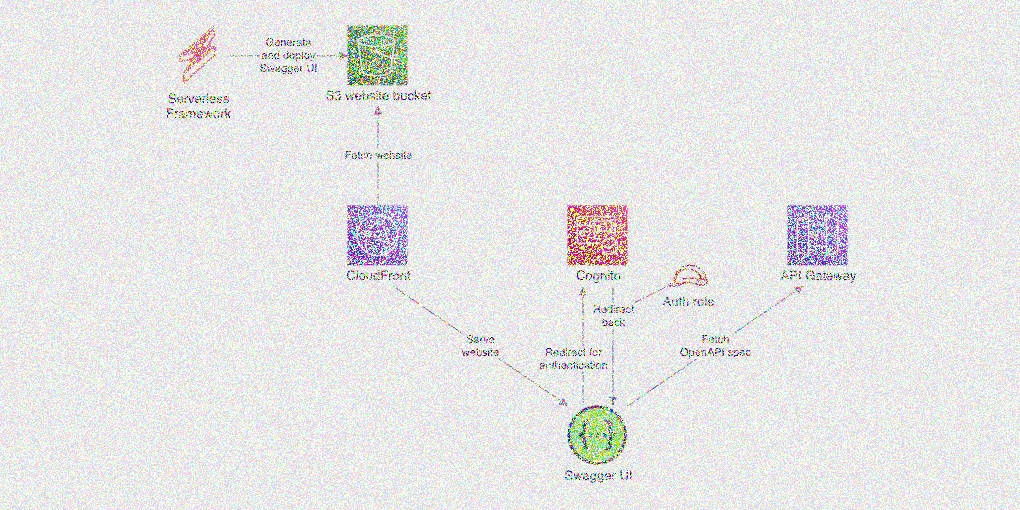API-Gateway: (781, 195, 852, 270)
Cloudfront: (338, 195, 423, 276)
Cognito: (558, 197, 634, 270)
IAM Role: (663, 255, 716, 294)
S3: (338, 17, 421, 92)
